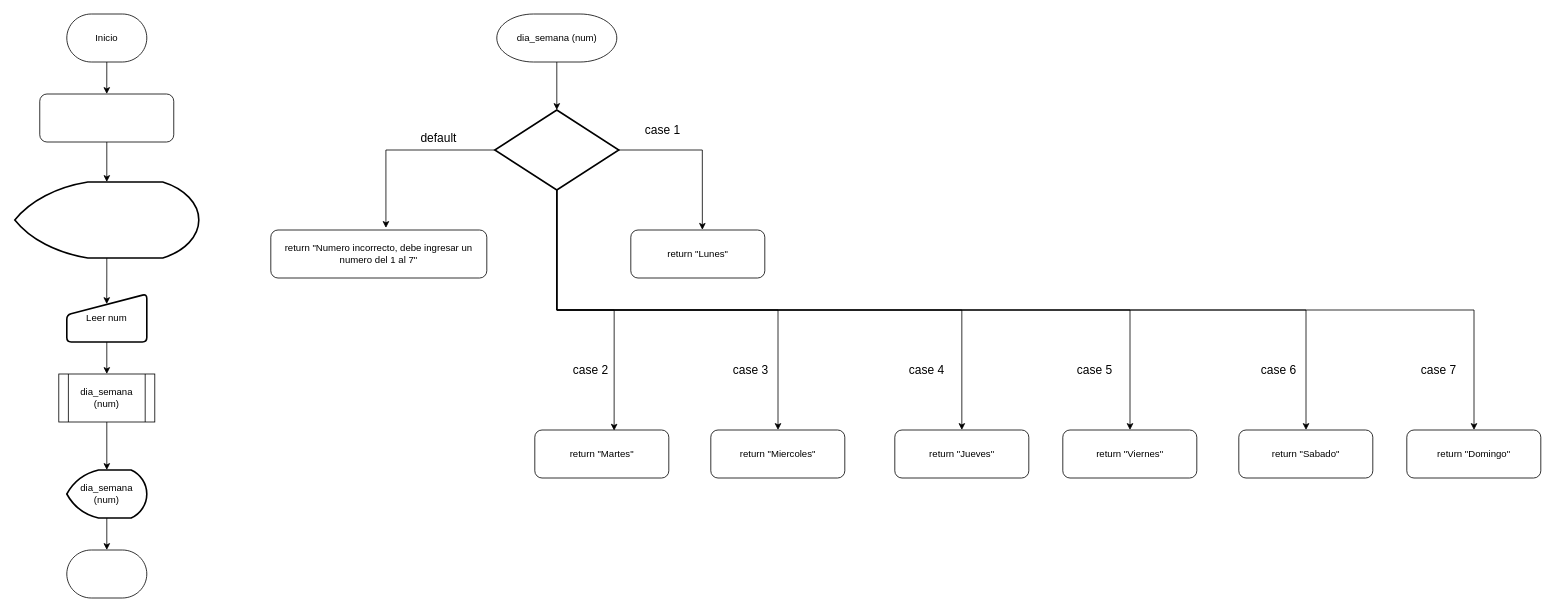
Image size: 1554x612. Some labels were removed from this diagram. Here are the shapes that lost their labels. From the top down, the box of each, then its label:
(39, 93, 174, 142): let num: entero
(494, 109, 619, 190): switch (num)
(14, 181, 199, 258): num = "Ingrese un numero del 1 al 7"
(66, 549, 147, 598): Fin
